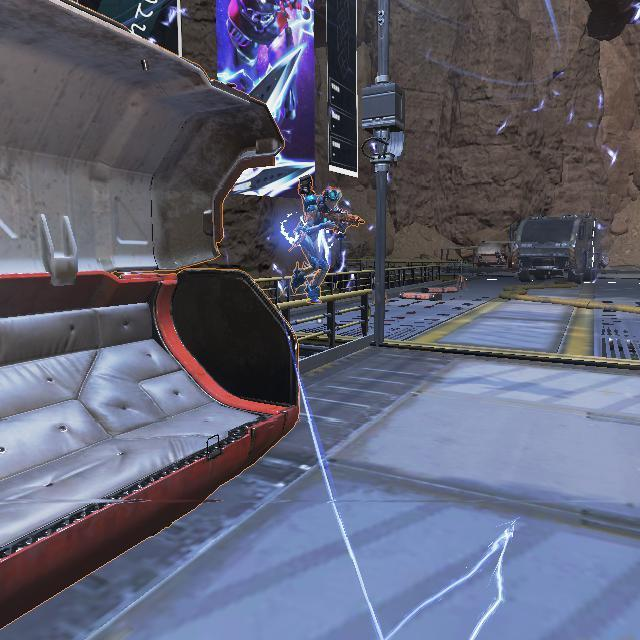avatar: (288, 182, 353, 307)
